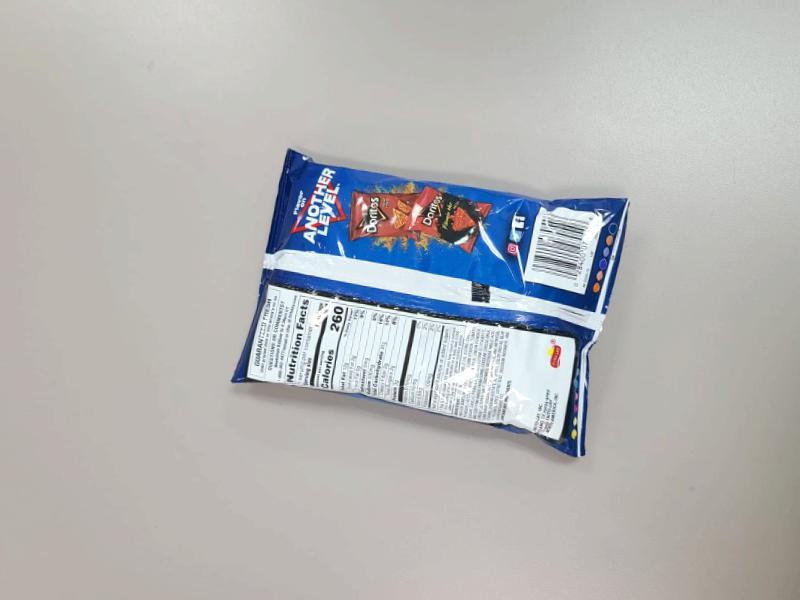doritos: (240, 127, 603, 477)
